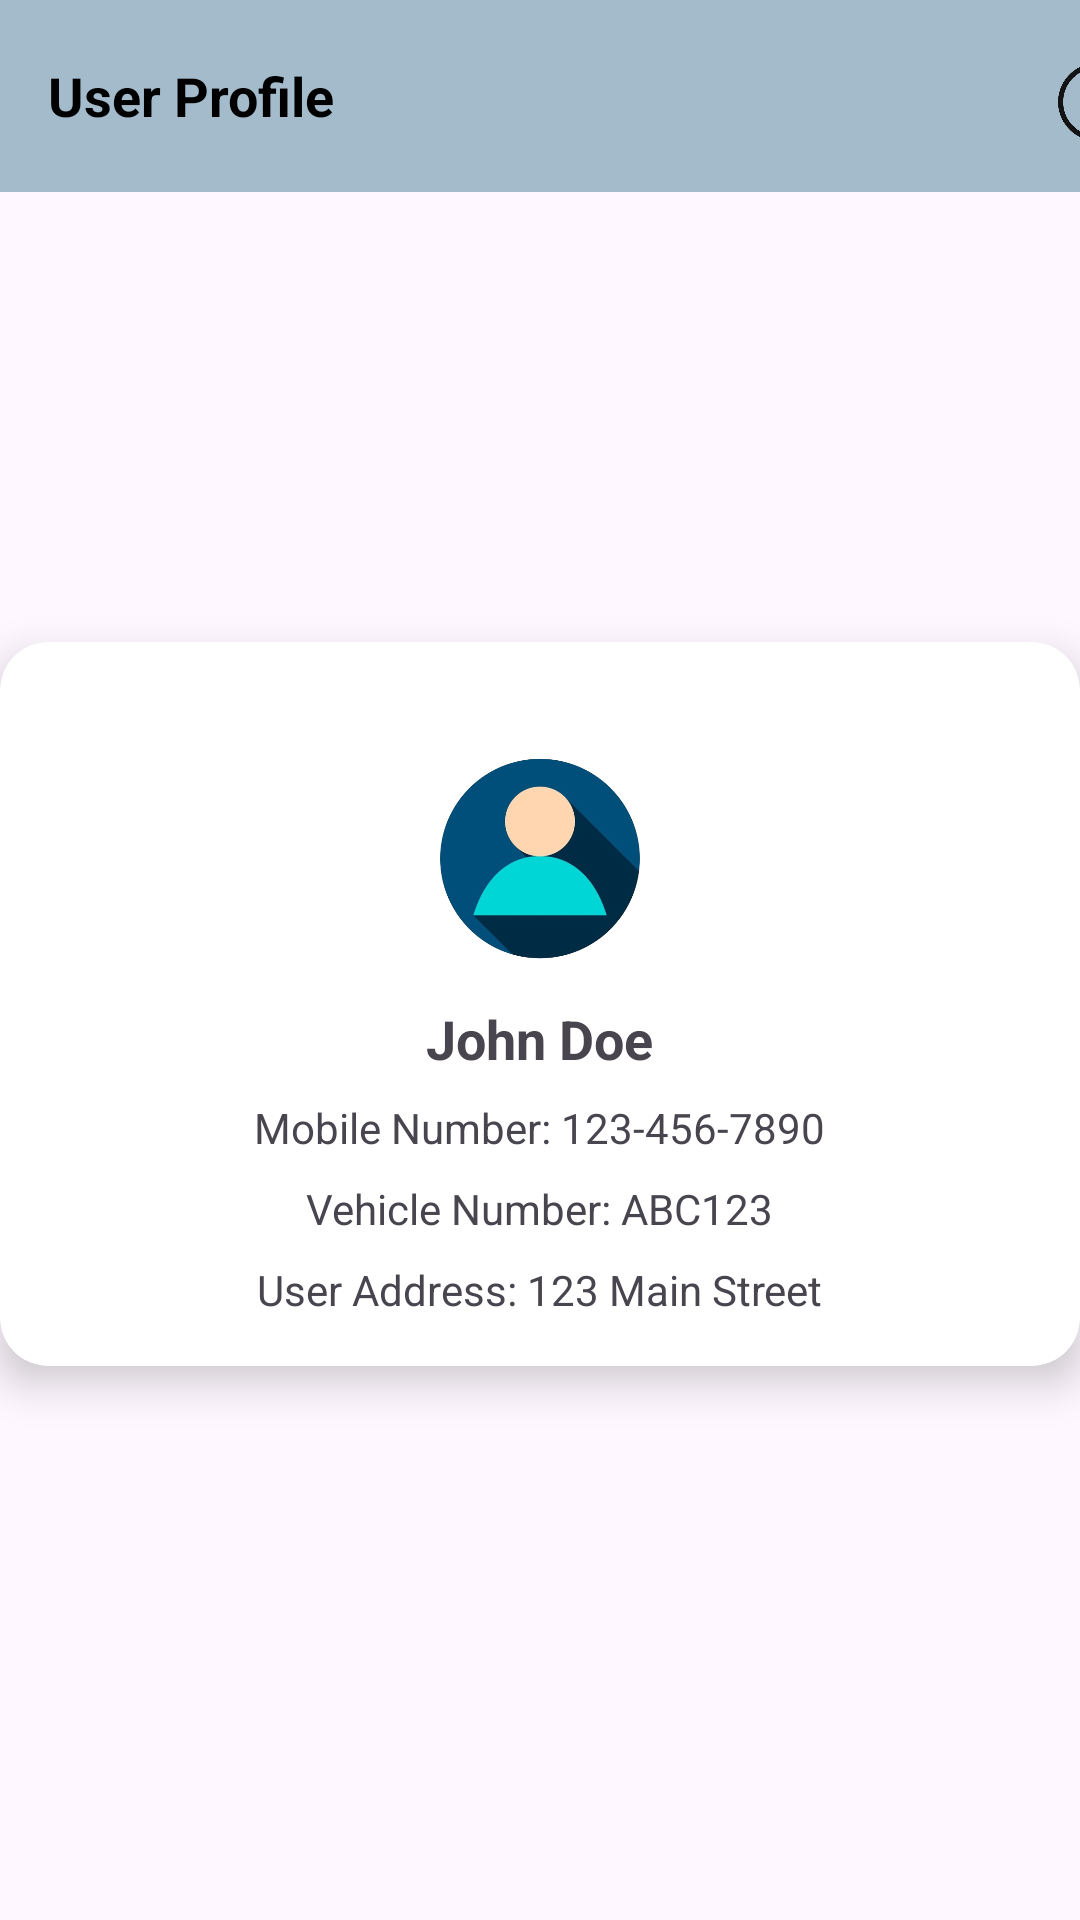

Screen size 1080*1920. Icon name, then its box in pixels as (x1, y1, x2, y2):
user: (440, 759, 640, 959)
